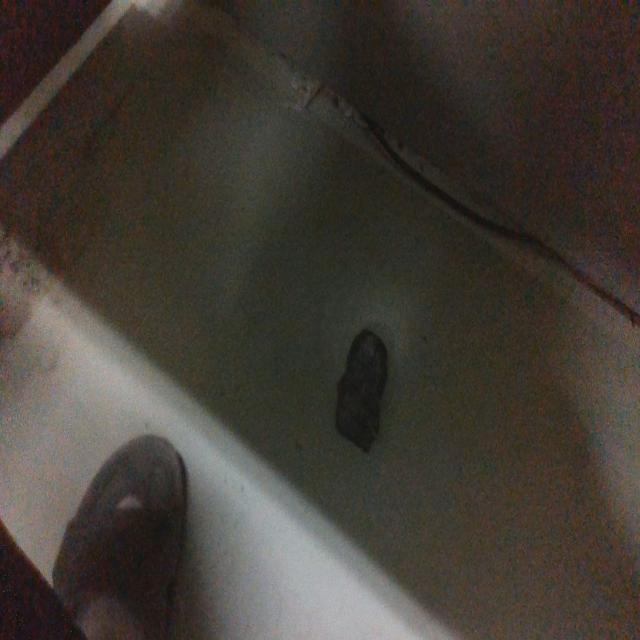stone: (332, 322, 390, 449)
